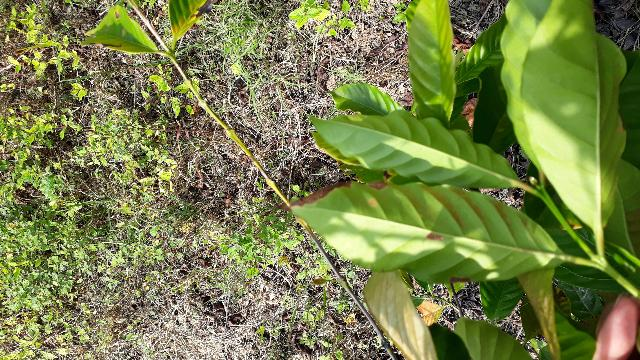red_spider_mite: (278, 176, 562, 284)
